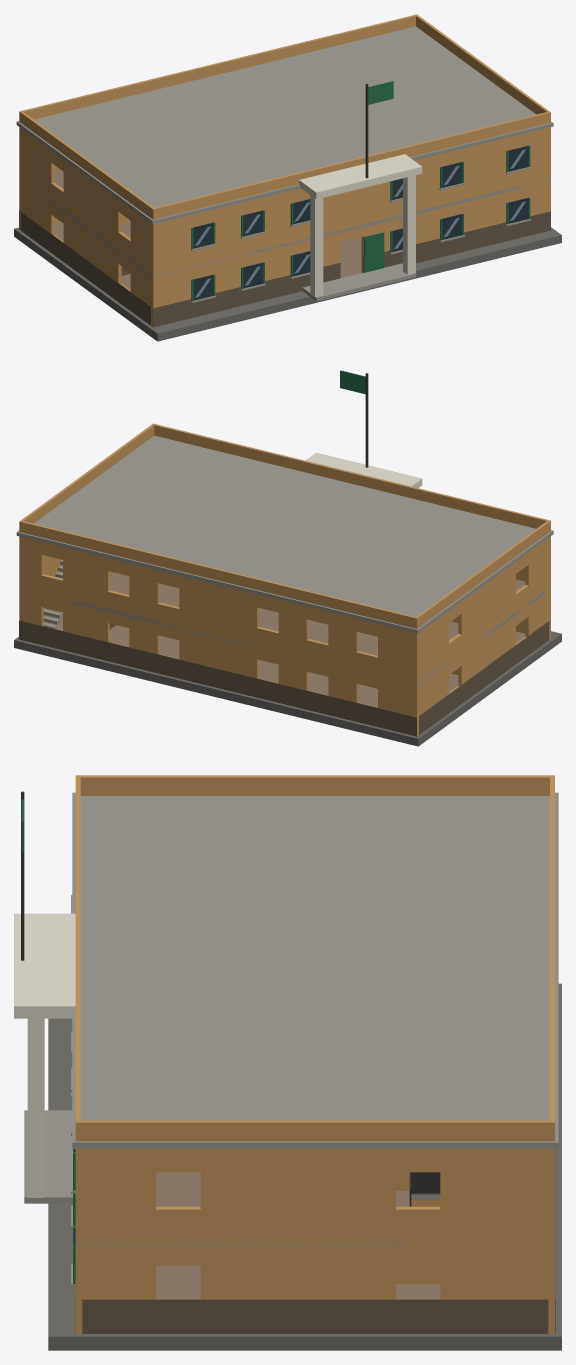
File: comando_a.glb
The picture shows the model from 3 angles, top to bottom: view 1: azimuth 30°, elevation 25°; view 2: azimuth 150°, elevation 25°; view 3: azimuth 270°, elevation 25°; orthographic projection. The views are drawn at different scales.
Parts seen in each view (by area): view 1: comando_a; view 2: comando_a; view 3: comando_a.
Boxes of the visible parts, x1=… form: comando_a: x1=14, y1=14, x2=561, y2=341; comando_a: x1=14, y1=370, x2=561, y2=746; comando_a: x1=14, y1=775, x2=561, y2=1350.
Size of the model in its own units: 24.4 by 12.3 by 16.
